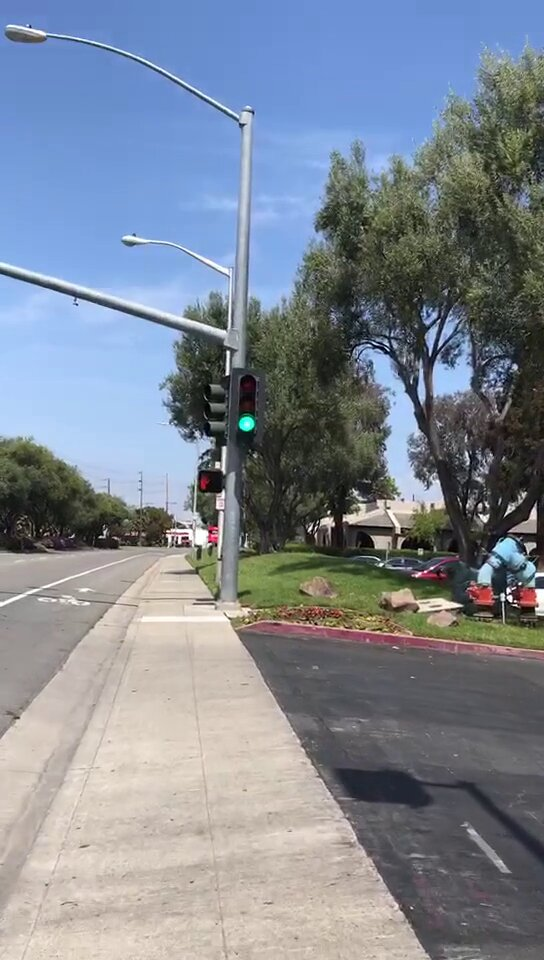green_light: (231, 367, 264, 440)
